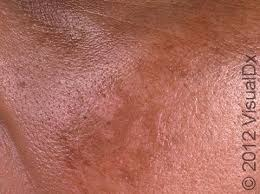Melasma: (2, 1, 198, 194), (203, 3, 241, 74)
